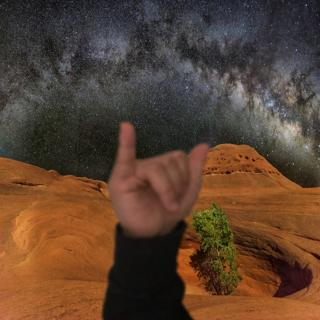HAVE: (101, 115, 216, 240)
